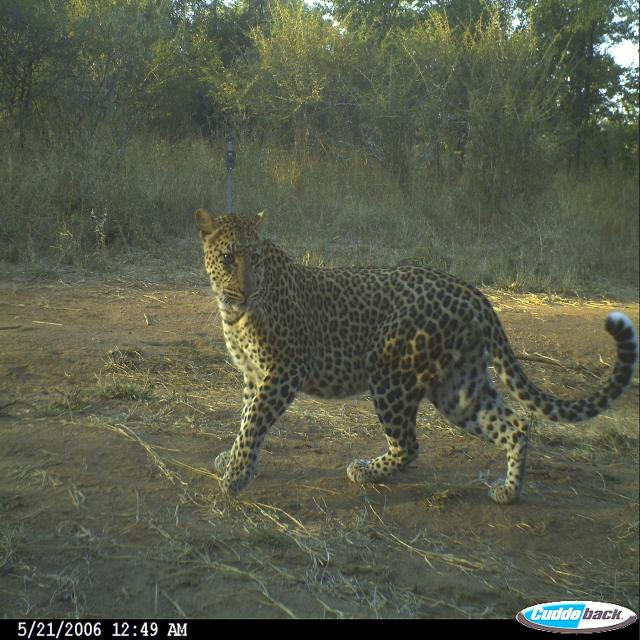Leopard: (187, 230, 628, 521)
